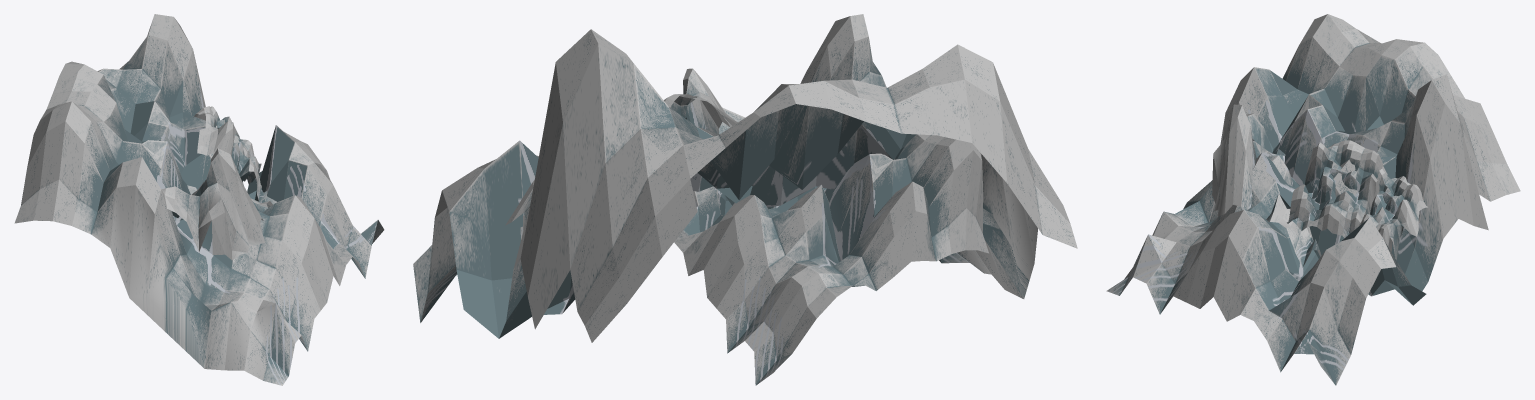
File: grosglacon.fbx
The picture shows the model from 3 angles, left to right: view 1: azimuth 30°, elevation 25°; view 2: azimuth 150°, elevation 25°; view 3: azimuth 270°, elevation 25°; orthographic projection. The views are drawn at different scales.
Visible parts, largest first — view 1: Plane_001_39.001, Plane_001_11.003, Plane_001_11.004, Plane_001_11.005; view 2: Plane_001_39.001, Plane_001_11.003, Plane_001_11.004; view 3: Plane_001_39.001, Plane_001_11.004, Plane_001_11.003, Plane_001_11.005.
Boxes of the visible parts, box(x1,y1,x2,y2) form: Plane_001_39.001: box(14, 14, 384, 385); Plane_001_11.003: box(161, 148, 276, 260); Plane_001_11.004: box(193, 106, 267, 202); Plane_001_11.005: box(210, 106, 261, 183); Plane_001_39.001: box(413, 29, 1077, 342); Plane_001_11.003: box(674, 14, 988, 385); Plane_001_11.004: box(664, 68, 737, 133); Plane_001_39.001: box(1106, 14, 1520, 385); Plane_001_11.004: box(1287, 140, 1387, 238); Plane_001_11.003: box(1212, 104, 1321, 267); Plane_001_11.005: box(1359, 169, 1427, 259).
Bounding box in the file's own units: 7726 × 4712 × 7454.
